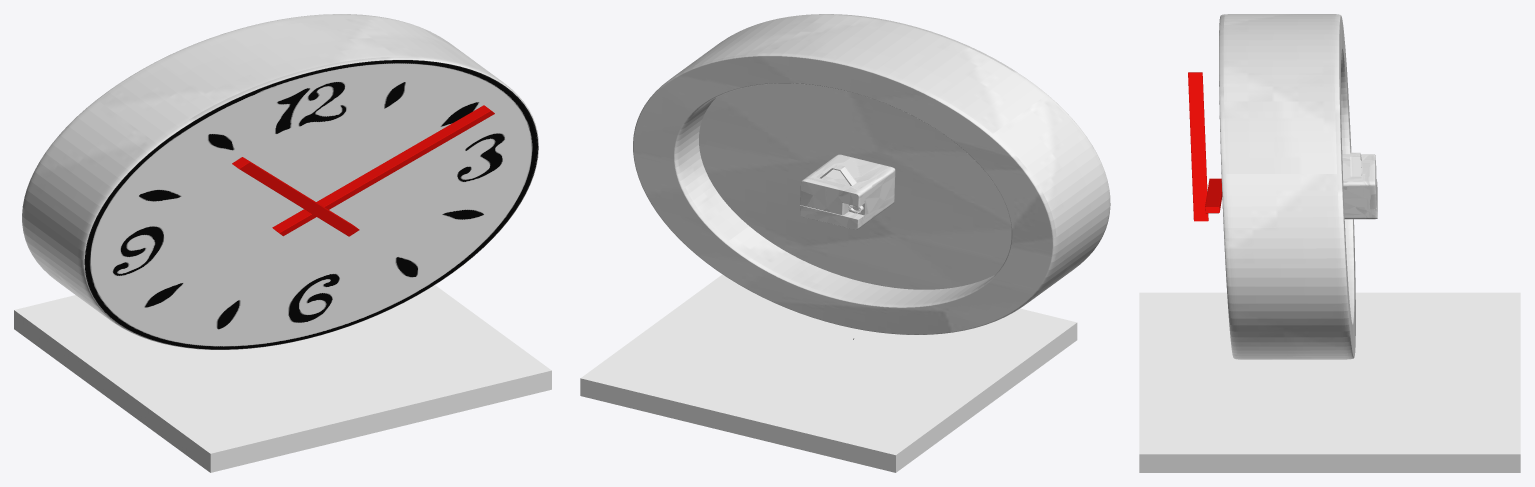
File: reloj.DAE
3 renders of one model, left to right at view 1: azimuth 30°, elevation 25°; view 2: azimuth 150°, elevation 25°; view 3: azimuth 270°, elevation 25°, orthographic. The views are drawn at different scales.
Parts seen in each view (by area): view 1: Object05, Box001, Cylinder00, Object19, Object20; view 2: Cylinder00, Box001; view 3: Box001, Cylinder00, Object20, Object19.
Boxes of the visible parts, x1,y1,x2,y2 form: Object05: (84, 60, 538, 349); Box001: (14, 285, 551, 472); Cylinder00: (22, 14, 538, 349); Object19: (272, 105, 494, 236); Object20: (232, 157, 359, 236); Cylinder00: (633, 14, 1110, 334); Box001: (580, 274, 1077, 472); Box001: (1139, 292, 1520, 472); Cylinder00: (1219, 14, 1377, 359); Object20: (1188, 72, 1208, 221); Object19: (1205, 178, 1222, 213).
Bounding box in the file's own units: 179 × 133 × 126.
Materials: 5 (2 with a texture image).
